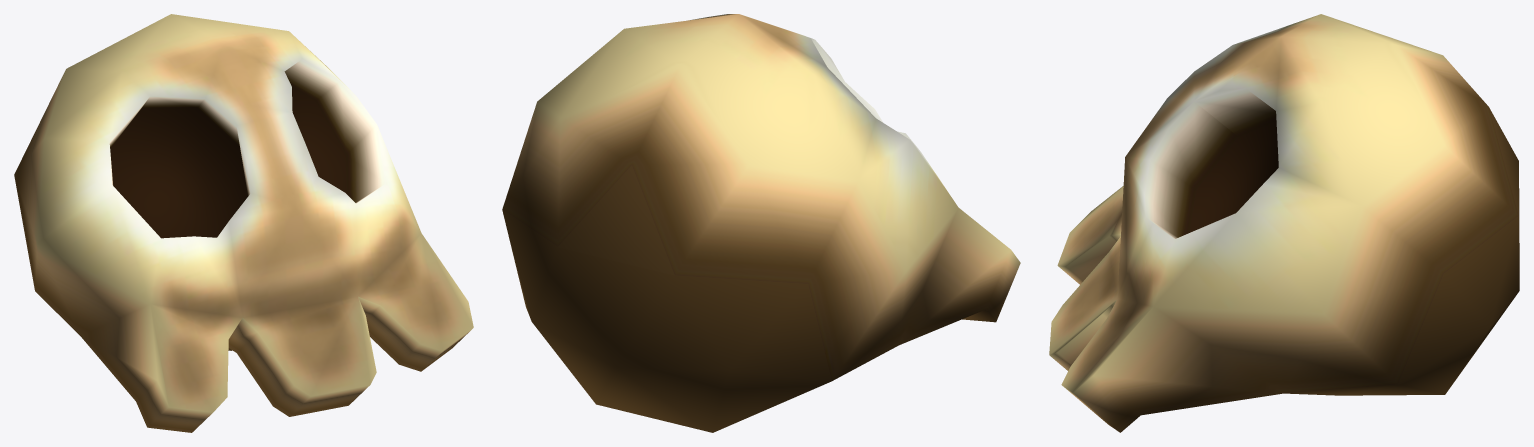
File: skull.FBX
3 views of the same model, side by side, from view 1: azimuth 30°, elevation 25°; view 2: azimuth 150°, elevation 25°; view 3: azimuth 270°, elevation 25° (orthographic). The views are drawn at different scales.
Parts seen in each view (by area): view 1: skull; view 2: skull; view 3: skull.
Boxes of the visible parts, x1,y1,x2,y2 form: skull: (14, 14, 473, 432); skull: (502, 14, 1020, 432); skull: (1049, 14, 1519, 432).
Size of the model in its own units: 1.1 by 1.23 by 0.9721.
